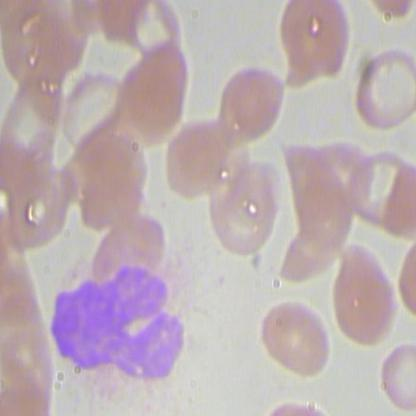RBC: (203, 152, 285, 262), (326, 241, 402, 352), (74, 132, 150, 235), (275, 1, 353, 100), (256, 289, 332, 379), (162, 115, 236, 198), (350, 46, 416, 133), (7, 170, 76, 253), (215, 66, 287, 145)
WBC: (37, 241, 225, 415)
